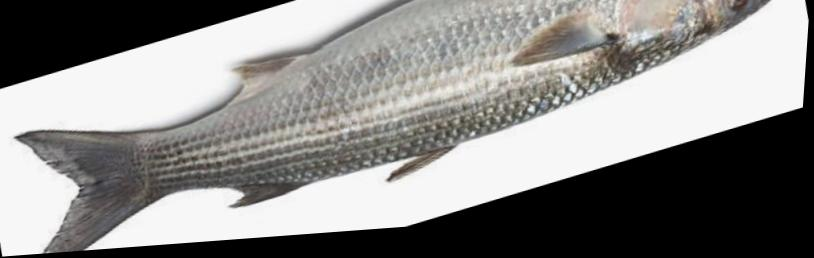fish: (16, 0, 780, 255)
